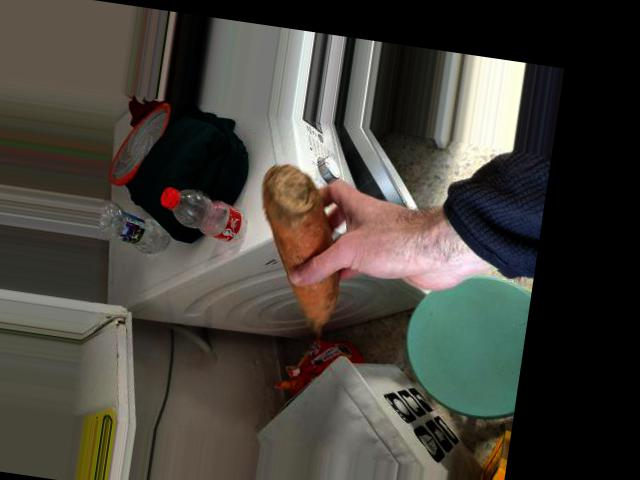sweet_potato: (238, 171, 366, 325)
